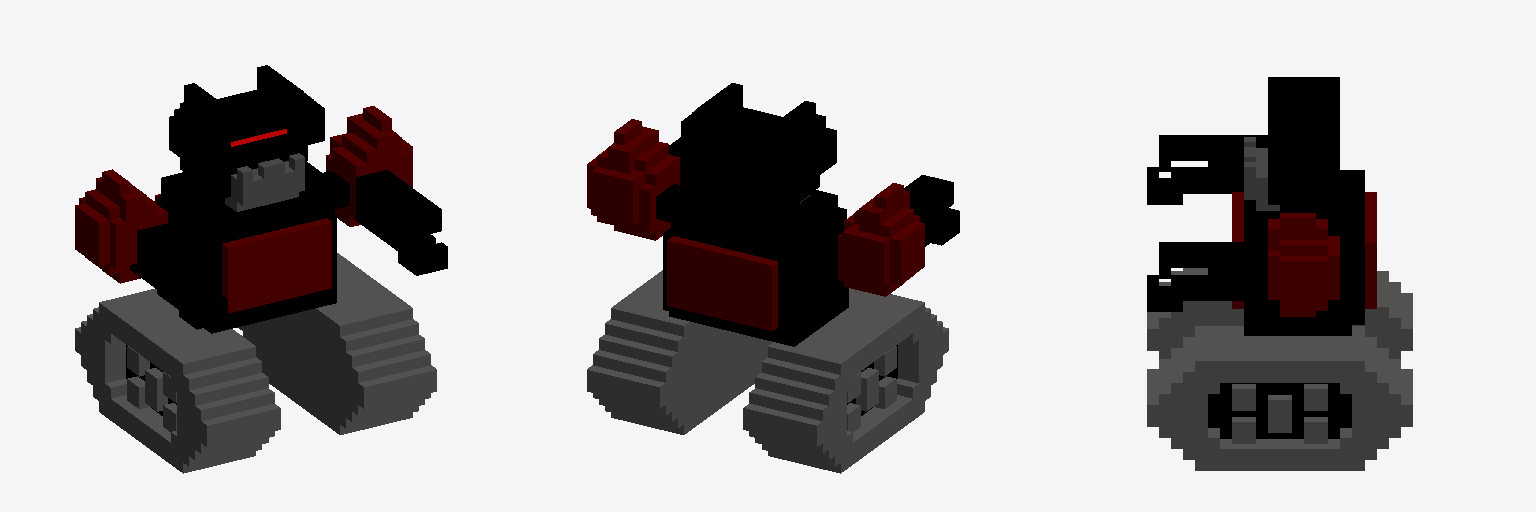
The picture shows the model from 3 angles: view 1: azimuth 30°, elevation 25°; view 2: azimuth 150°, elevation 25°; view 3: azimuth 270°, elevation 25°; orthographic projection.
Bounding box in the file's own units: 30 × 29 × 22.
1 materials, 1 textured.